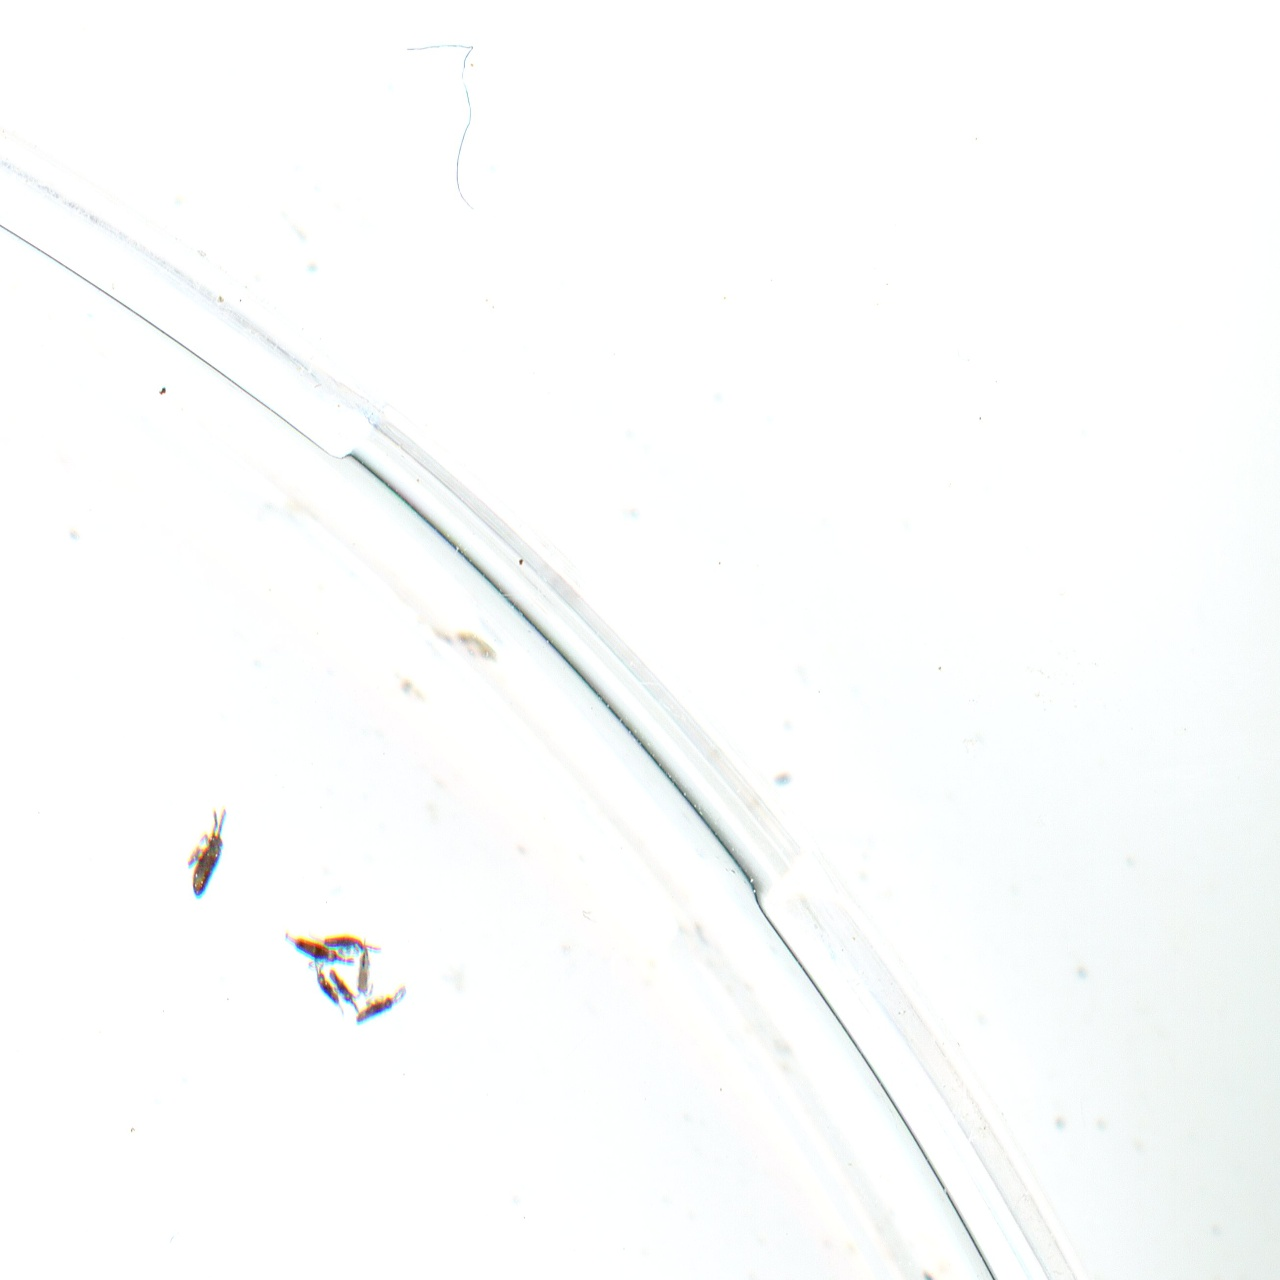arthropod: (170, 799, 245, 914), (273, 927, 365, 985), (348, 980, 415, 1028), (308, 954, 347, 1022), (327, 961, 369, 1020), (350, 937, 375, 1001), (322, 933, 383, 958)
